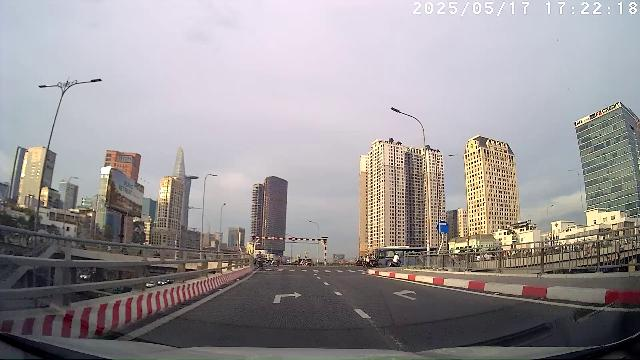301d-cac-xe-chi-duoc-re-phai-2: (437, 221, 449, 234)
